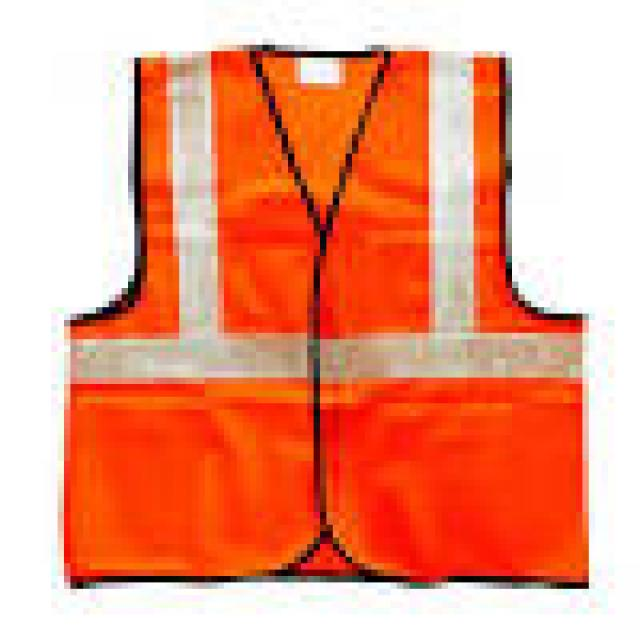Reflective-Jacket: (19, 19, 634, 602)
